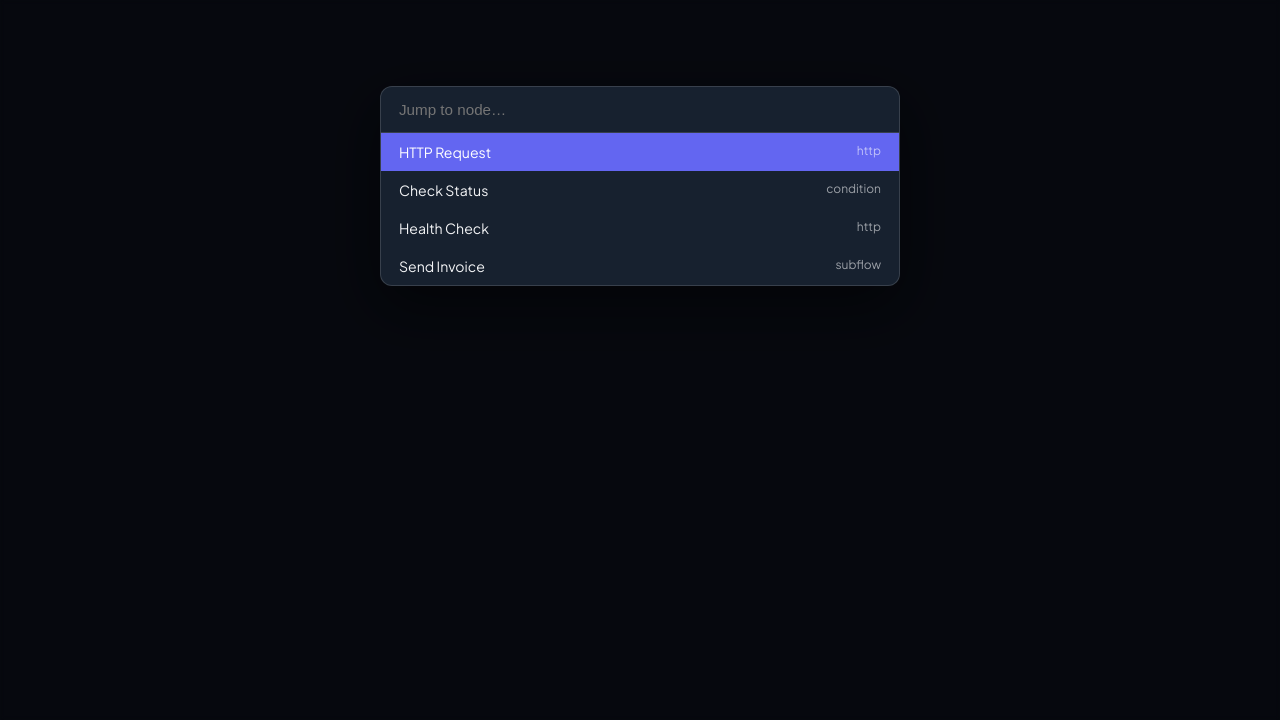
Test: NodeSearchPalette › shows an empty state when nothing matches
Type "zzzzz" into the field named "Search nodes by name" at point(640, 110), box [381, 87, 899, 133]
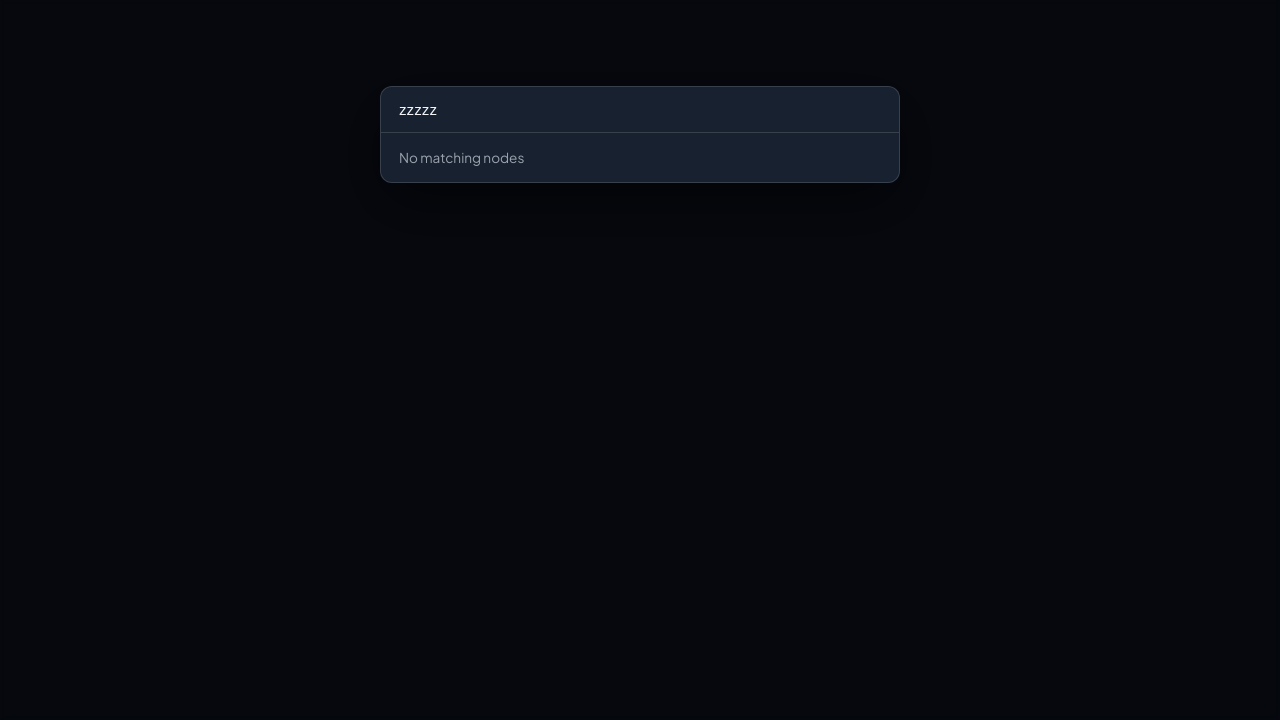
Expected: the text "No matching nodes" is shown, [399, 149, 524, 166]
